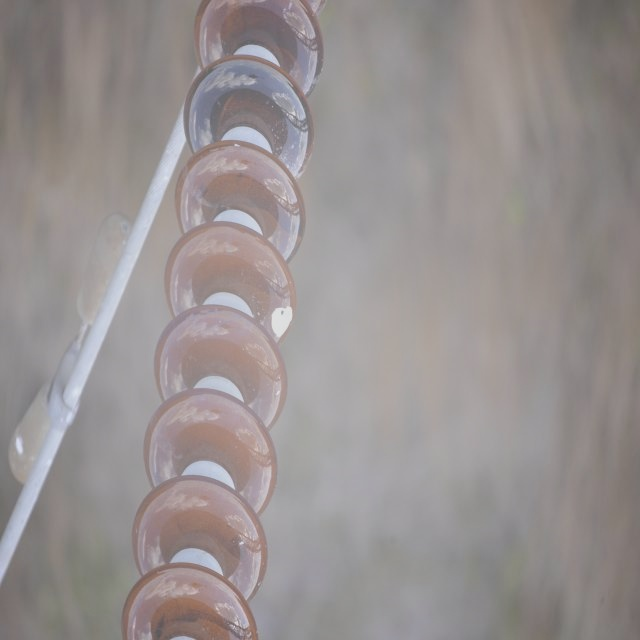broken: (268, 300, 297, 341)
insulator: (118, 0, 326, 636)
